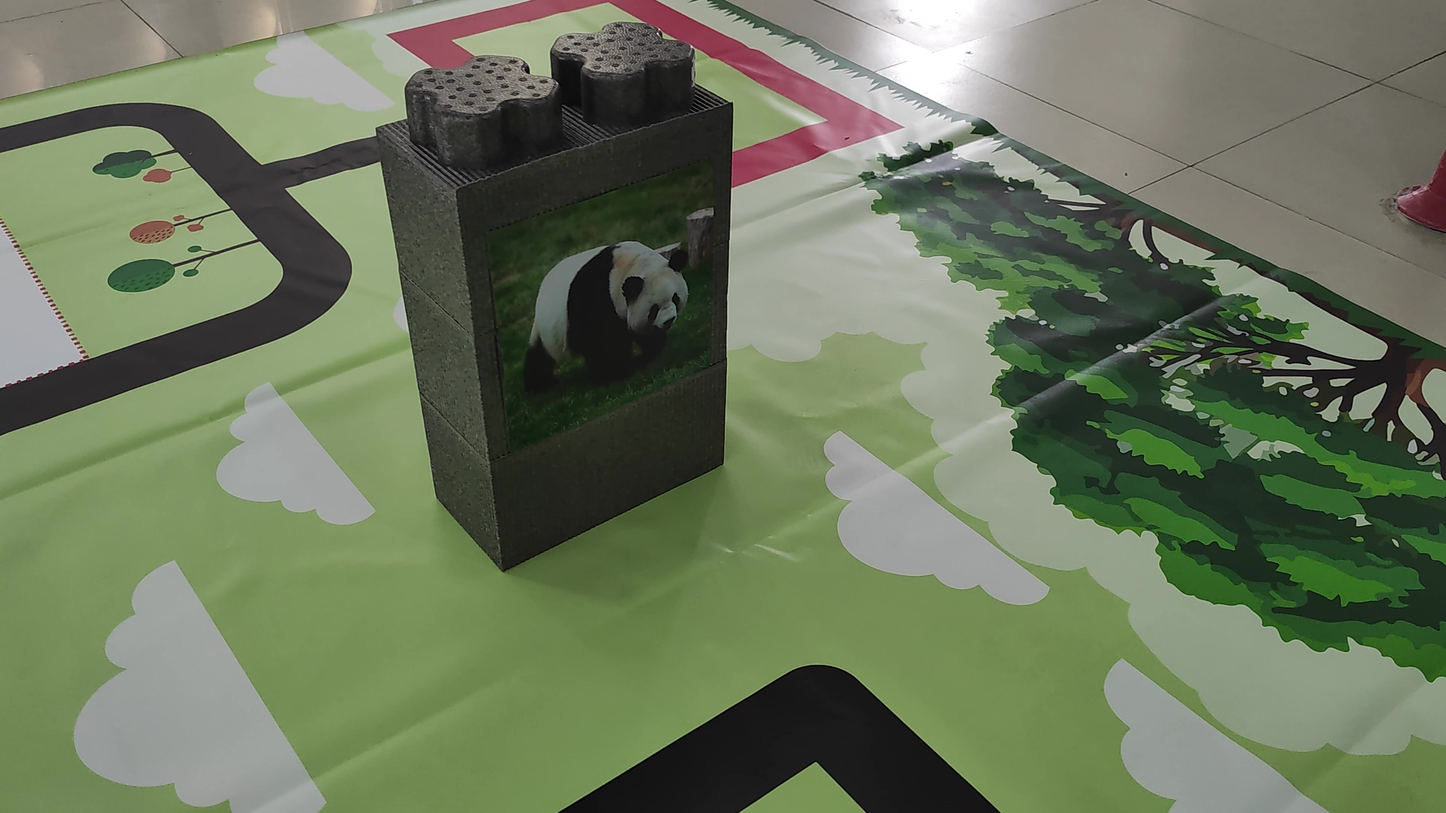panda: (496, 211, 713, 390)
